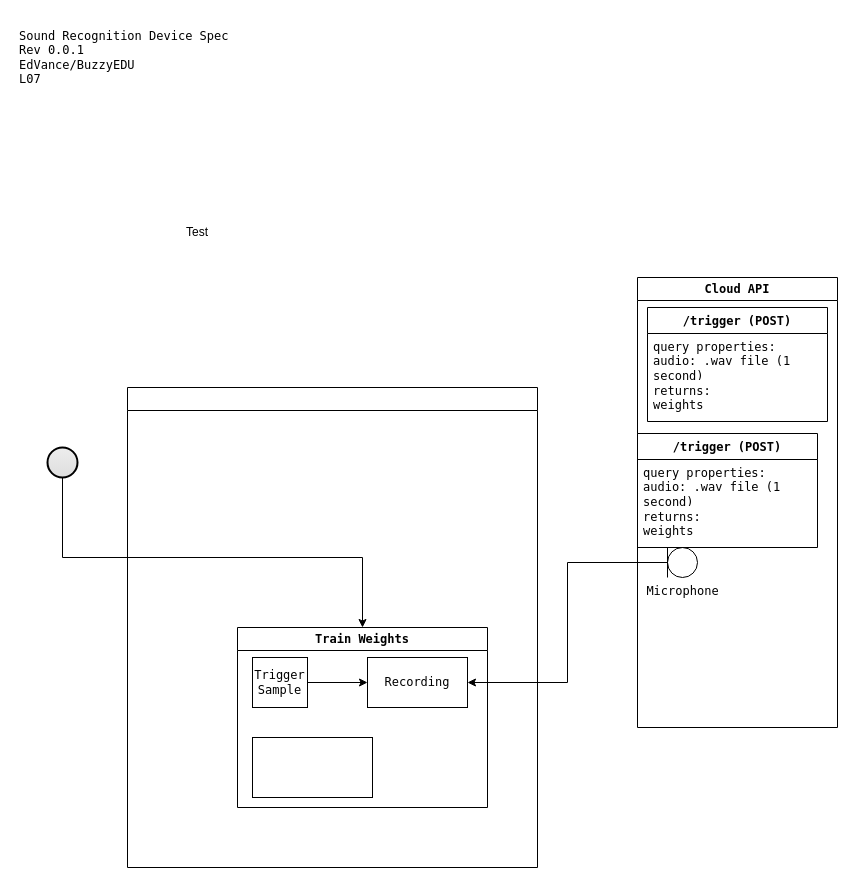
Some shapes in this 855 by 885 pixel diagram are drawn without their labels. The shapes that lost their labels are listed below. From the top down, each one's box as (x1, y1, x2, y2) in pixels, then its label:
(46, 446, 78, 478): btn
(126, 386, 538, 868): Sound Recognition Device - ESP32-S3
(252, 736, 372, 798): Save Weights
